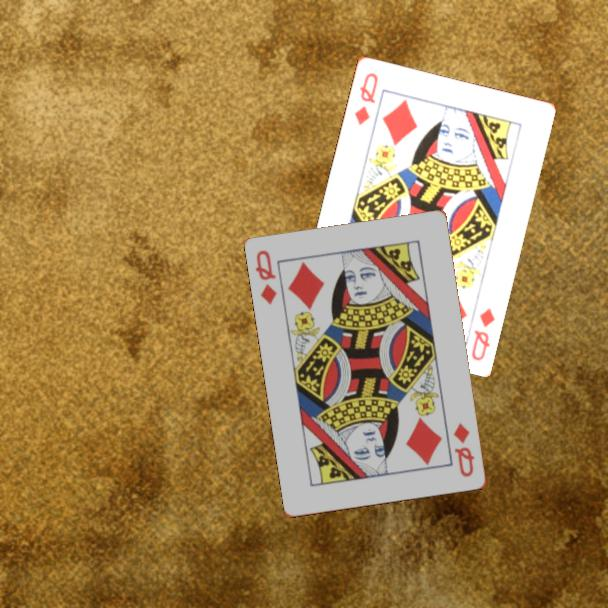d12: (351, 69, 381, 128), (468, 304, 497, 363), (450, 419, 478, 480), (252, 247, 280, 308)
